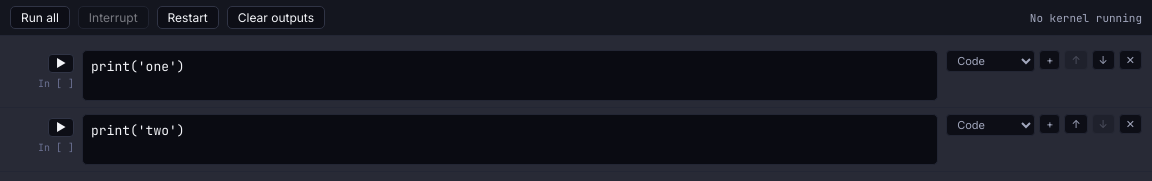
Test: the kernel controls › tells the kernel to restart, and stops waiting on the running cell
Click the button named "Run cell 1" at coordinates (61, 64), box [48,54,74,73]
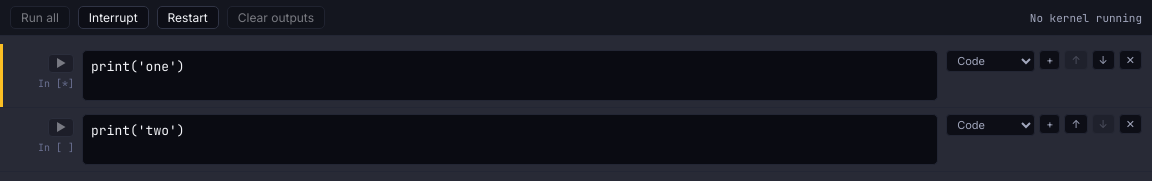
Click the button "Restart" at coordinates (188, 18), box [157,6,219,29]
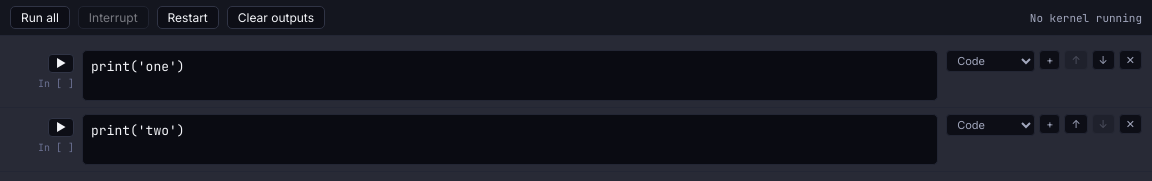
Check: the text "In [*]" is gone
